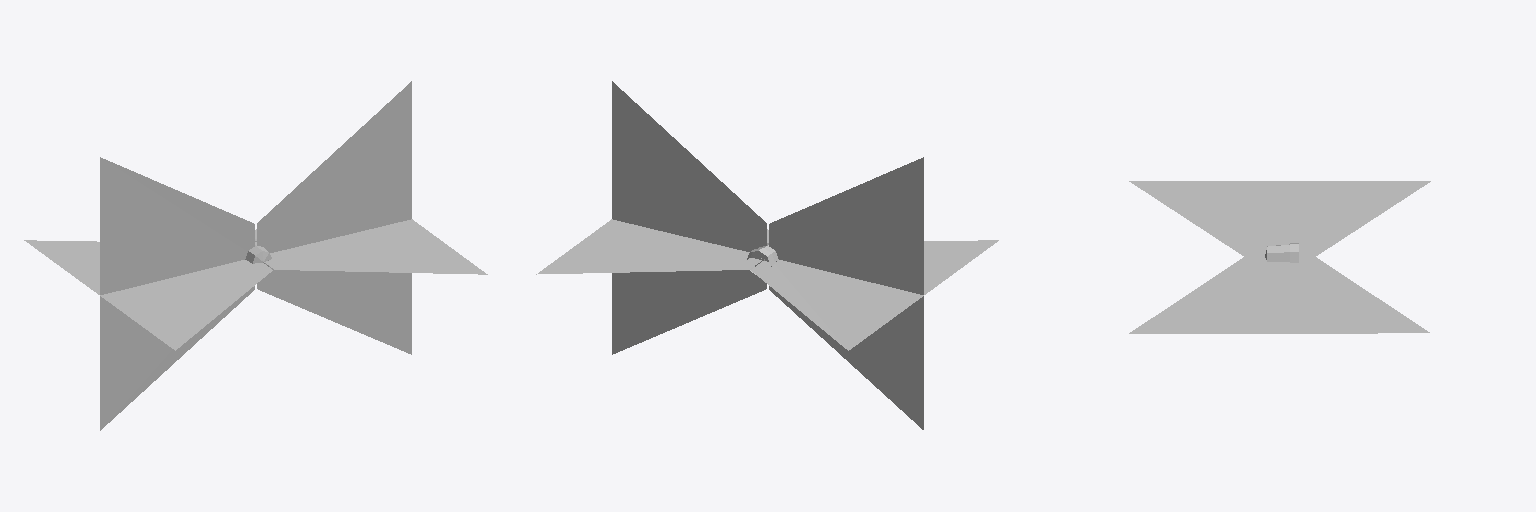
The model's file is stg400_MotRotlightA_n1_14.obj.
The picture shows the model from 3 angles: view 1: azimuth 30°, elevation 25°; view 2: azimuth 150°, elevation 25°; view 3: azimuth 270°, elevation 25°; orthographic projection.
Visible parts, largest first — view 1: polygon4; view 2: polygon4; view 3: polygon4.
Boxes of the visible parts, box(x1,y1,x2,y2) form: polygon4: box(24, 81, 487, 430); polygon4: box(536, 81, 998, 429); polygon4: box(1129, 181, 1430, 333).
Bounding box in the file's own units: 109 × 91.26 × 91.26.